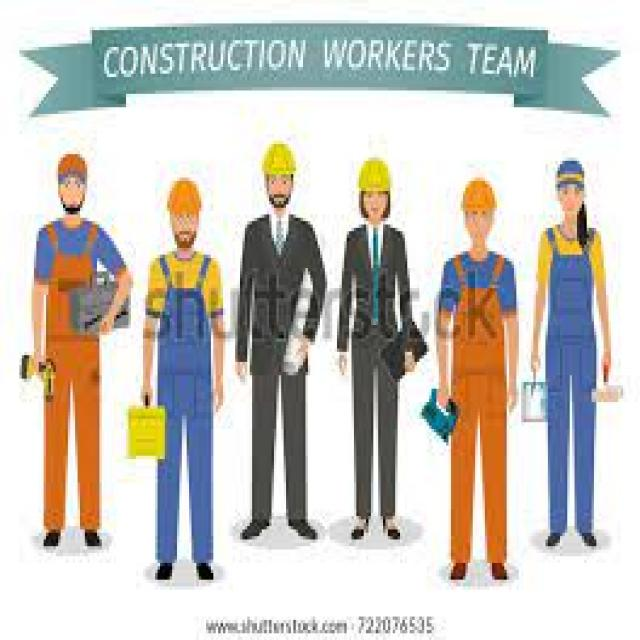Safety-Helmet: (160, 171, 206, 221), (257, 138, 301, 178), (49, 144, 94, 181), (458, 174, 499, 214), (354, 154, 395, 194), (550, 151, 587, 184)
